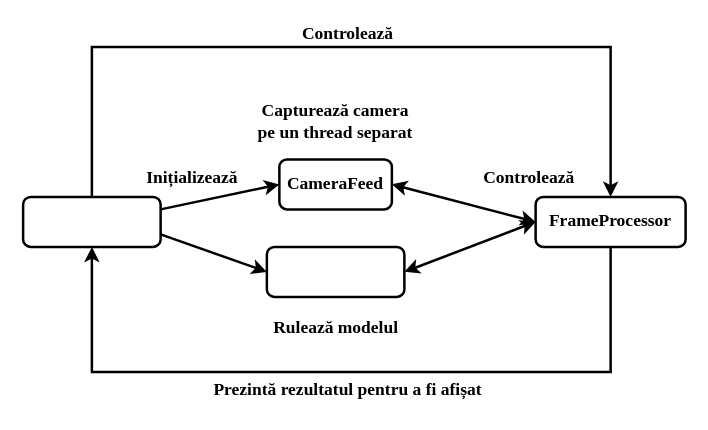
Image size: 708x430. Some labels were removed from this diagram. Each missing label, with the box of its shape:
ApplicationGUI: (21, 195, 161, 248)
ONNXDetector: (265, 245, 405, 298)
